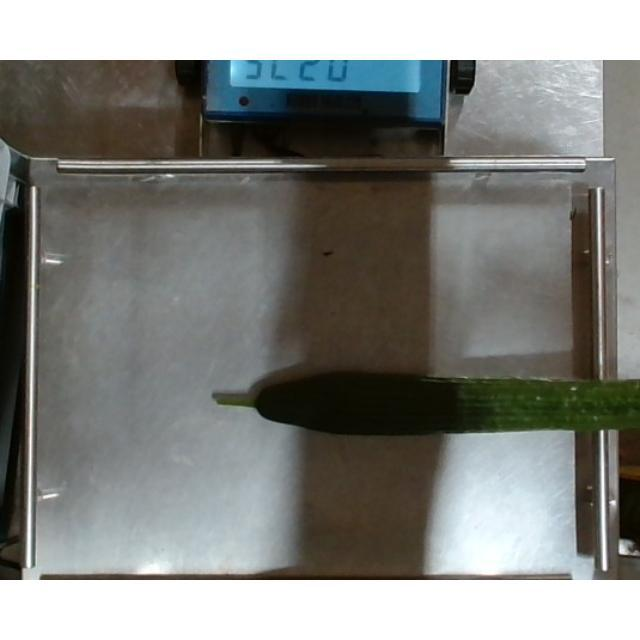cucumber: (210, 366, 640, 440)
